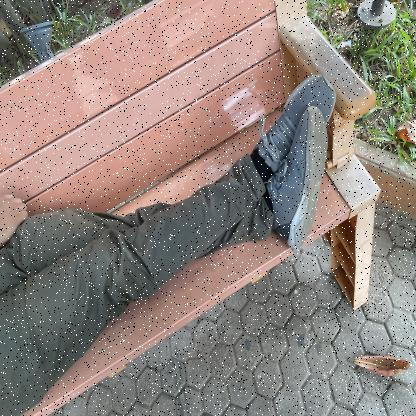leg: (198, 109, 360, 267), (212, 50, 345, 179)
